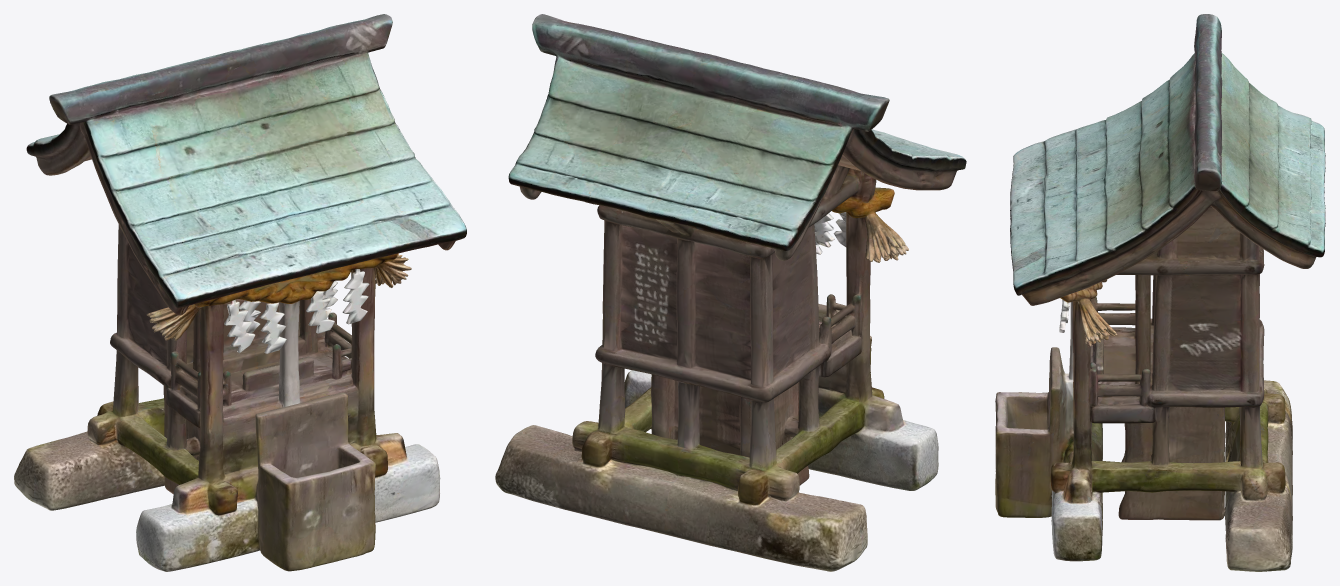
Rendered from hokora_opt.glb.
3 renders of one model, left to right at view 1: azimuth 30°, elevation 25°; view 2: azimuth 150°, elevation 25°; view 3: azimuth 270°, elevation 25°, orthographic. The views are drawn at different scales.
Bounding box in the file's own units: 1.56 × 1.9 × 1.39.
1 material, 1 textured.
